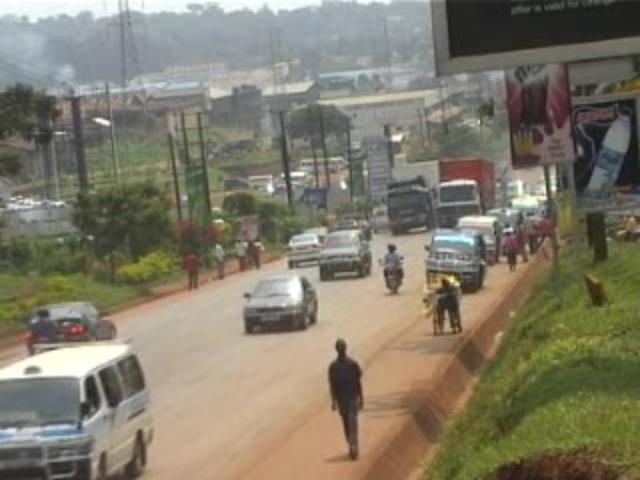car: (25, 300, 118, 355), (242, 274, 316, 332), (424, 230, 486, 293), (317, 229, 372, 279), (286, 233, 325, 269)
motorcycle: (379, 254, 405, 294)
truck: (433, 157, 485, 230), (386, 178, 436, 236)
van: (0, 342, 152, 478), (457, 216, 500, 264)
